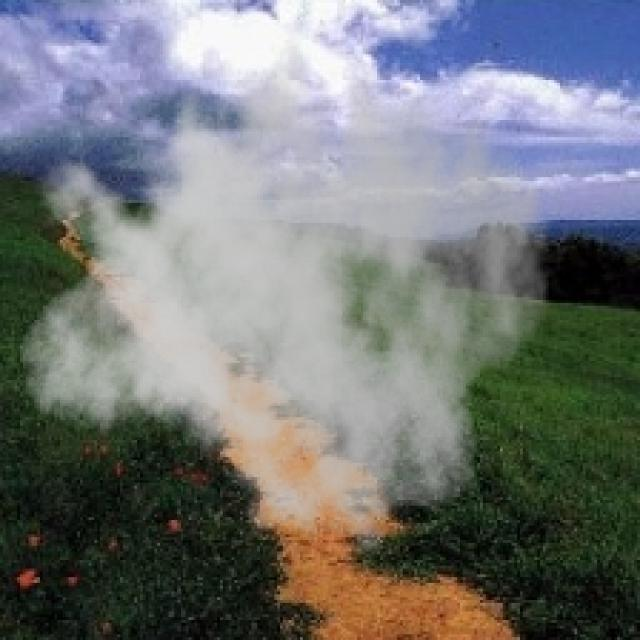smoke: (17, 9, 552, 568)
